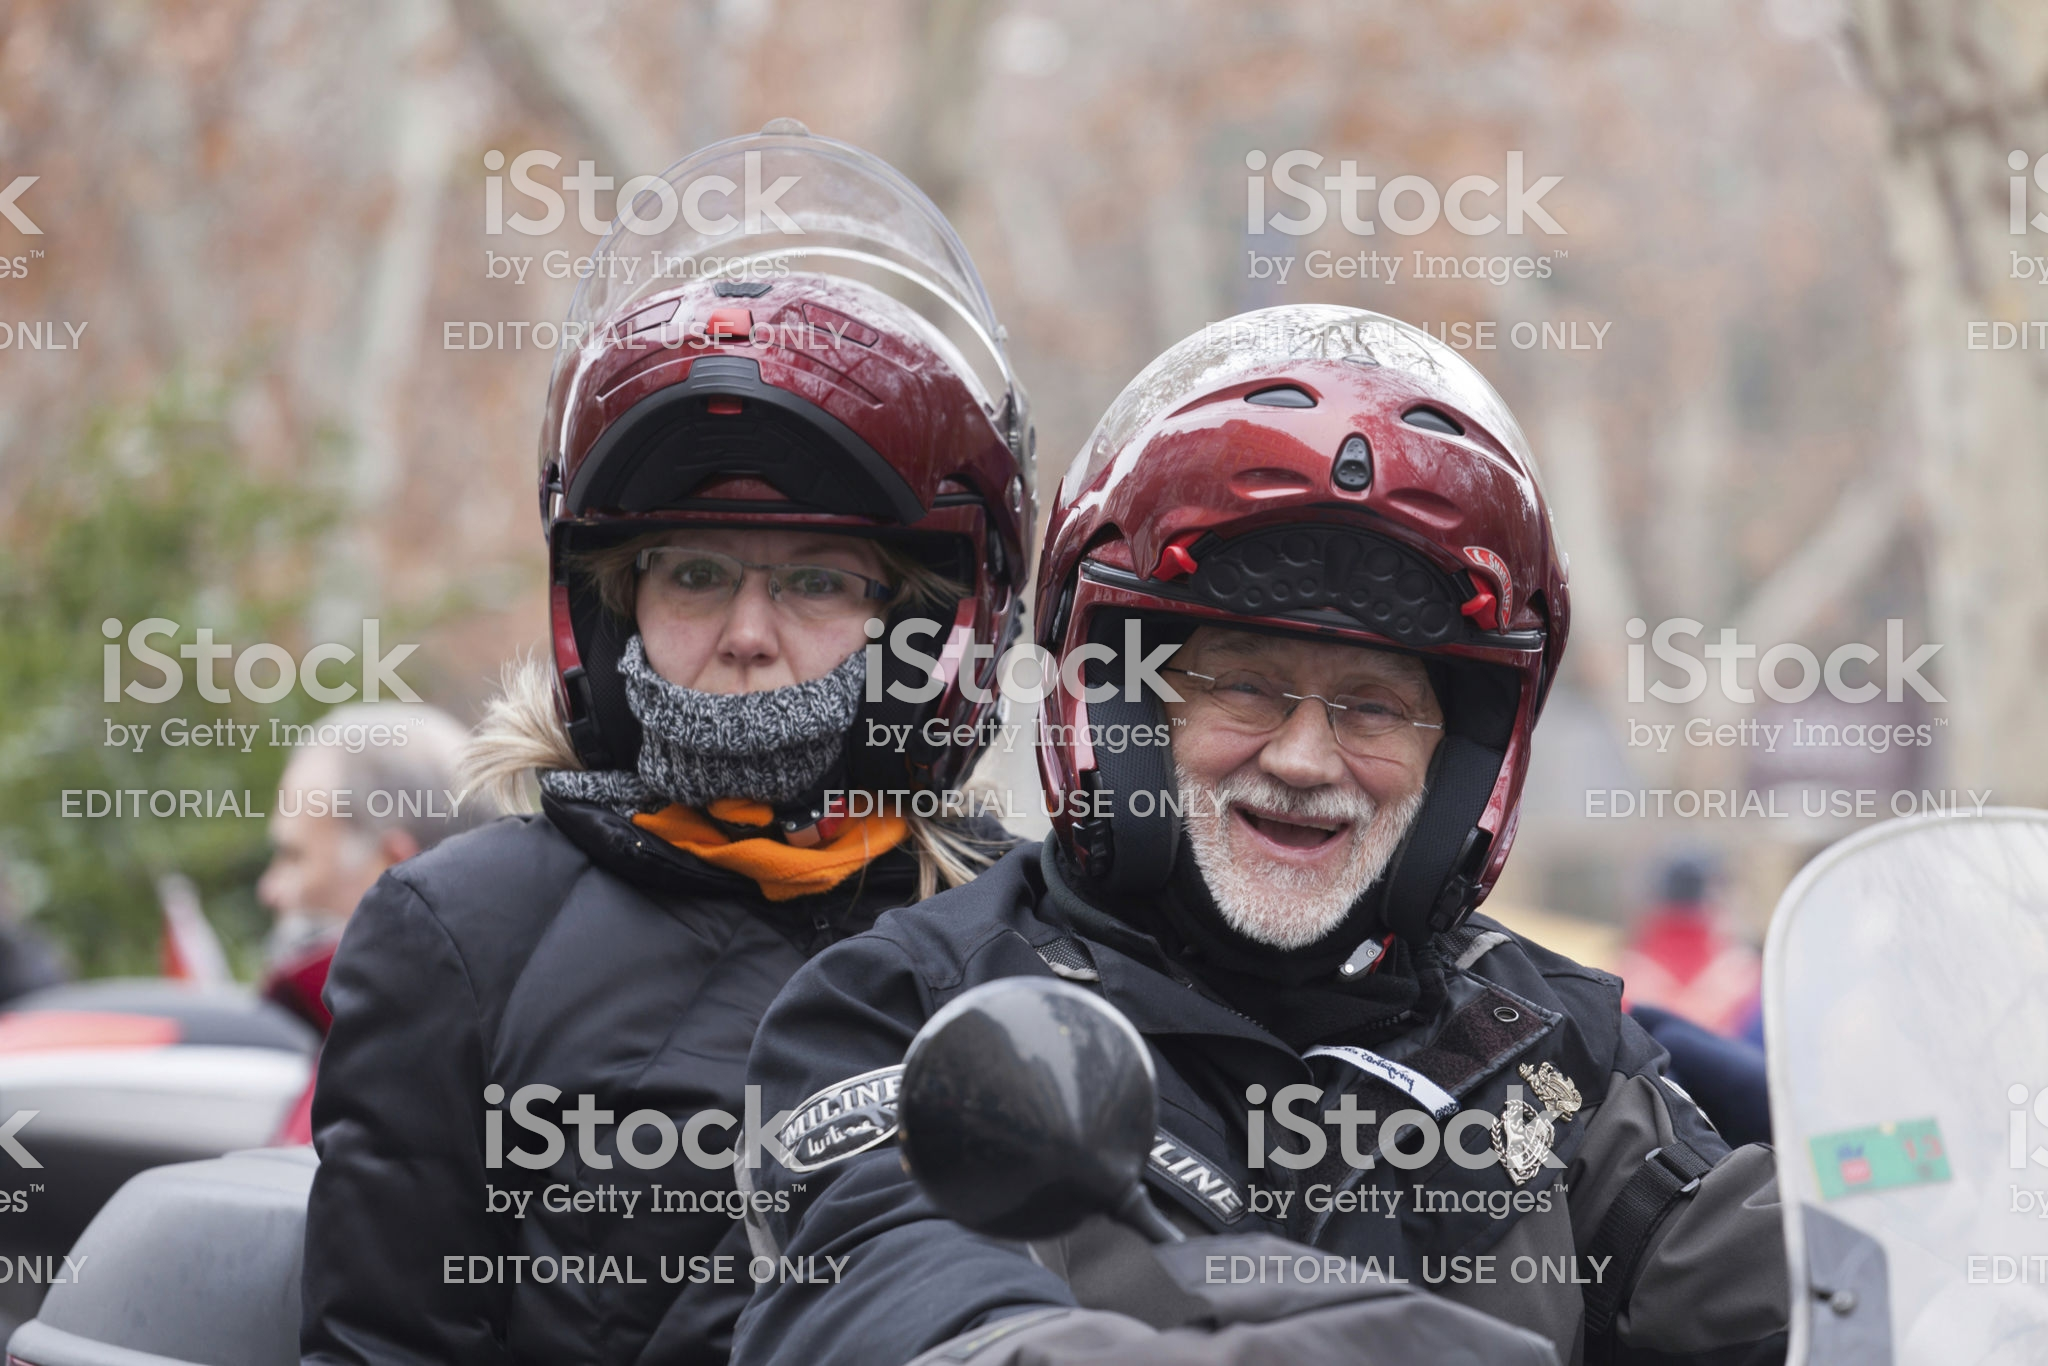helmet: (1006, 303, 1566, 831), (559, 223, 1039, 779)
